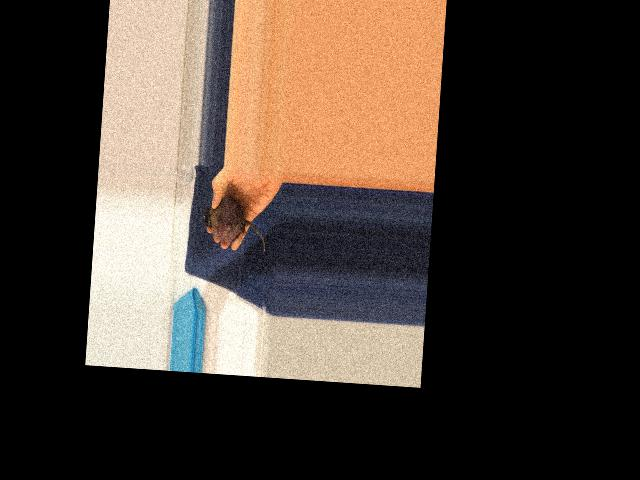beet: (201, 195, 268, 254)
